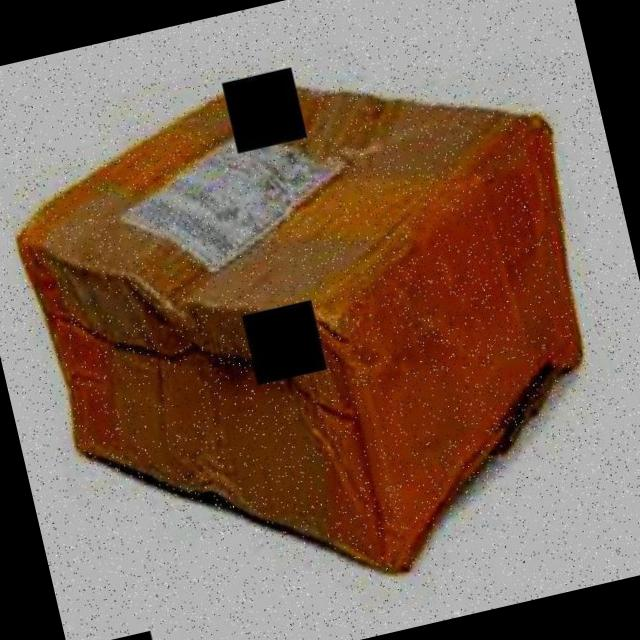box: (0, 23, 637, 640)
